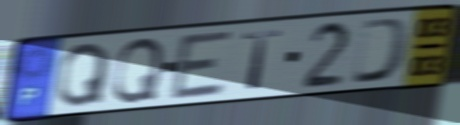2: (300, 18, 353, 90)
D: (348, 15, 413, 87)
E: (168, 27, 236, 103)
Q: (55, 40, 113, 110), (110, 35, 167, 106)
T: (240, 27, 285, 92)
